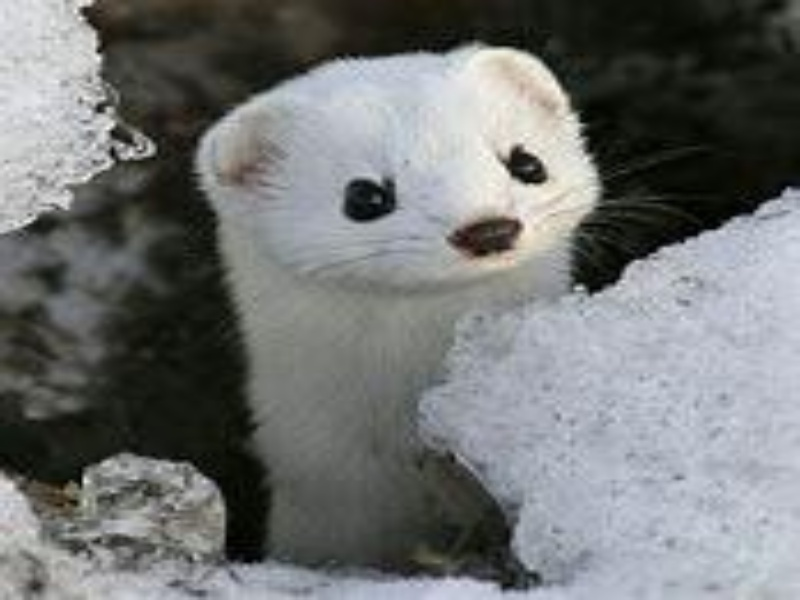minkish: (189, 38, 603, 576)
